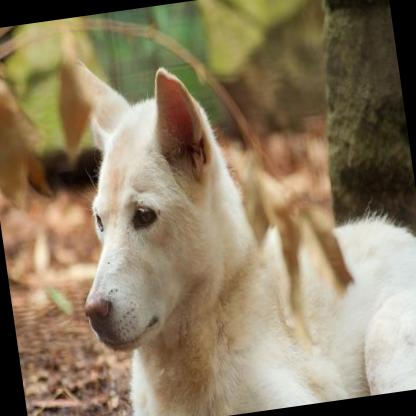dingo: (47, 9, 416, 416)
